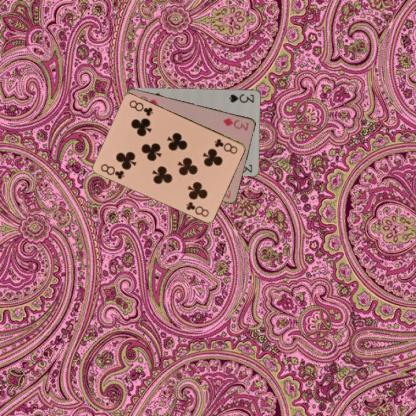3d: (221, 115, 250, 132)
3s: (226, 91, 255, 104)
8c: (98, 161, 126, 180), (212, 136, 239, 155)
